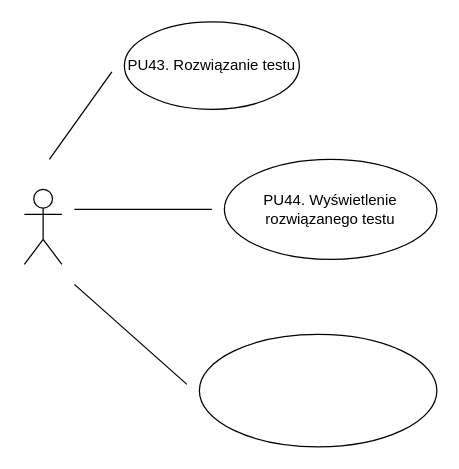
Image size: 459x469. Some labels were removed from this diagram. Each missing label, with the box of its shape:
PU50. Wyświetlenie ocen: (198, 333, 437, 447)
Uczeń: (23, 188, 62, 264)
